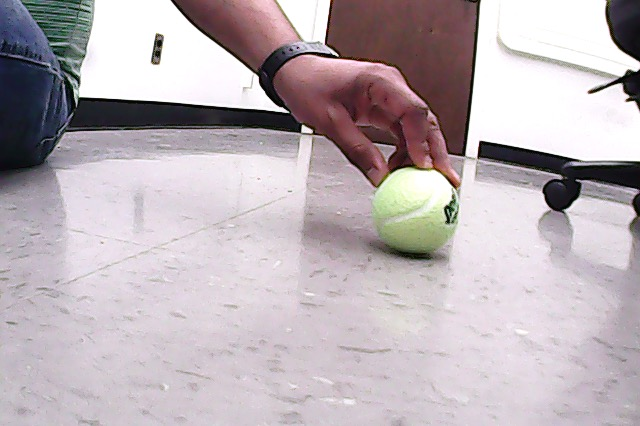ball: (370, 165, 463, 257)
